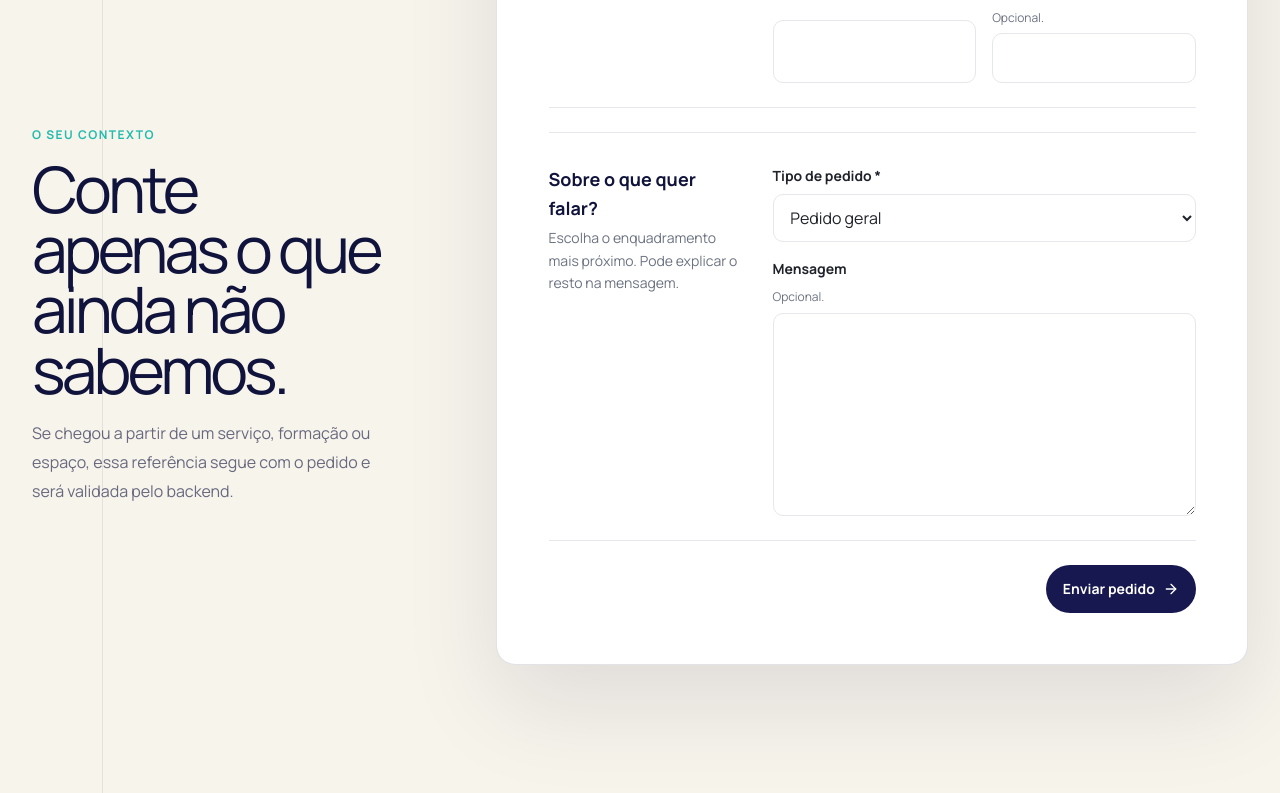
Test: public contact form › renders field validation errors before submission
(page scrolled)
Step 1. Click the button "Enviar pedido" → (1121, 589), box 1046,565 -> 1196,613
(page scrolled)
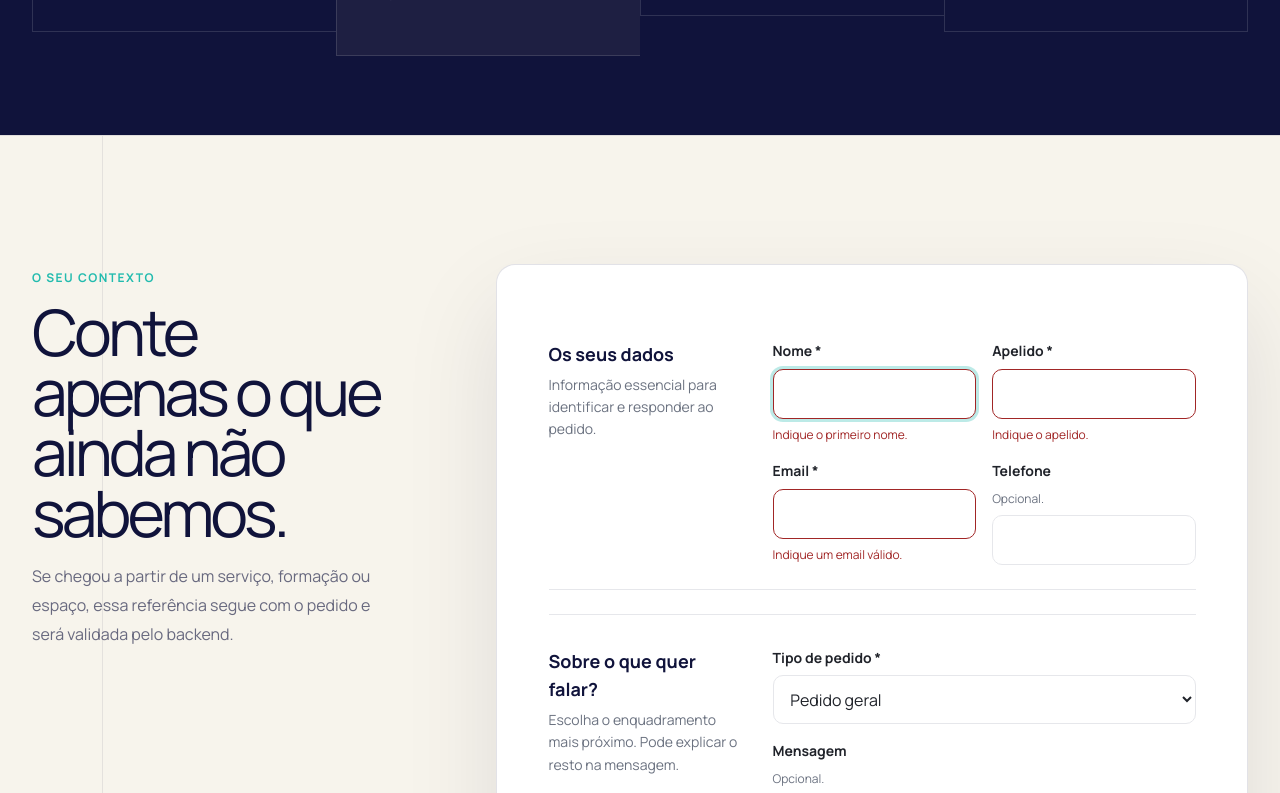
Expected: the text "Indique o primeiro nome." is shown, 772,426 -> 908,443
Expected: the text "Indique o apelido." is shown, 992,426 -> 1089,443
Expected: the text "Indique um email válido." is shown, 772,546 -> 902,563
